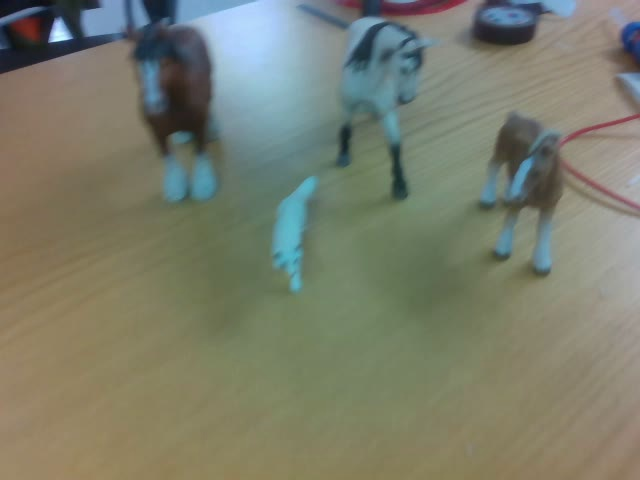toy: (336, 1, 438, 201), (122, 20, 212, 200), (480, 109, 564, 275), (269, 175, 317, 292)
